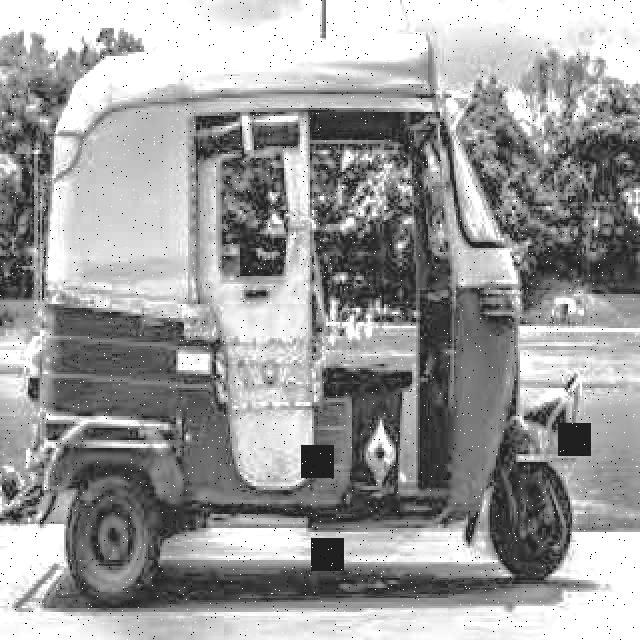Auto-Rickshaw: (26, 60, 592, 600)
